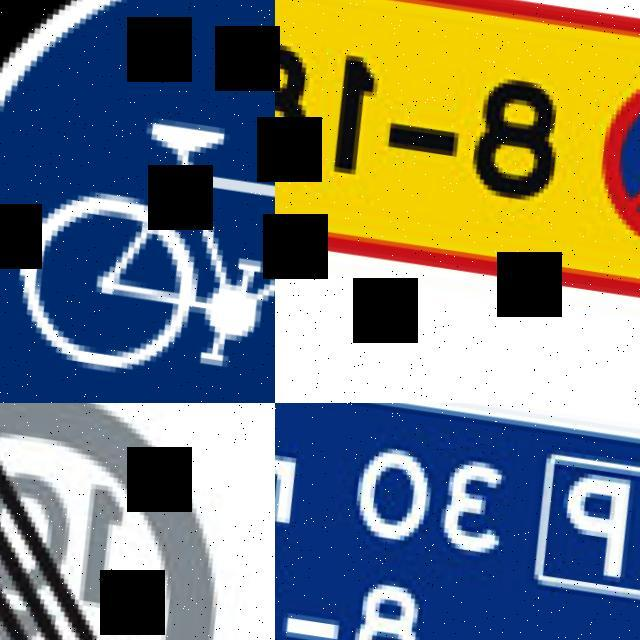111: (0, 403, 275, 640)
120: (275, 403, 640, 640)
181: (275, 0, 640, 325)
Cycle track: (0, 0, 275, 403)
